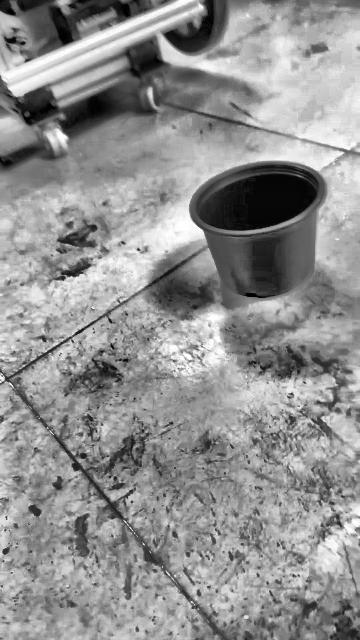pot: (191, 161, 327, 296)
